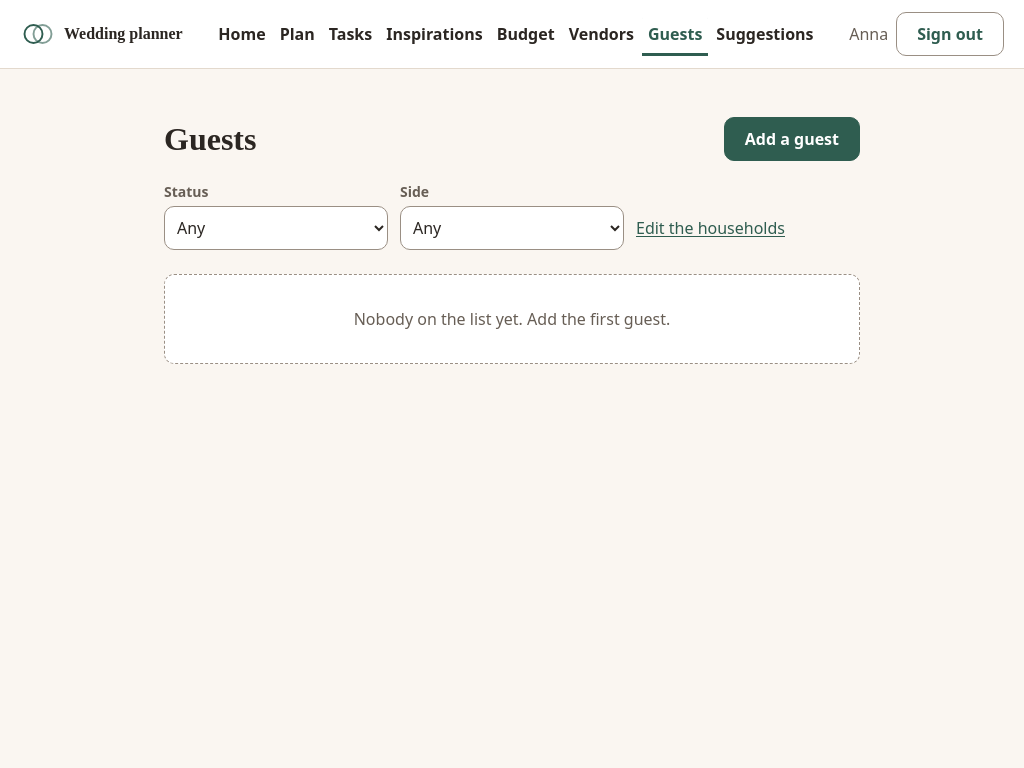
it: the households › adds a household, and says so when the name is taken
Click the link "Edit the households".
click(710, 228)  # box [636,216,785,240]
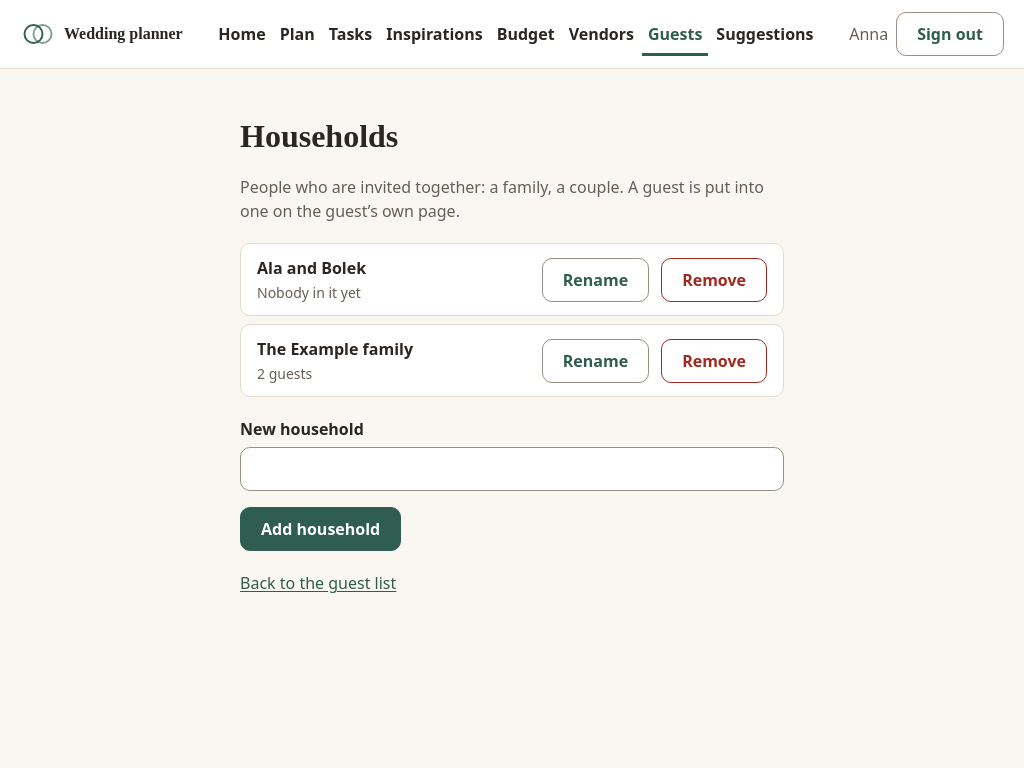
Type "The Example family" into the field labelled "New household".
click(512, 469); type("The Example family")  # box [240,447,784,491]
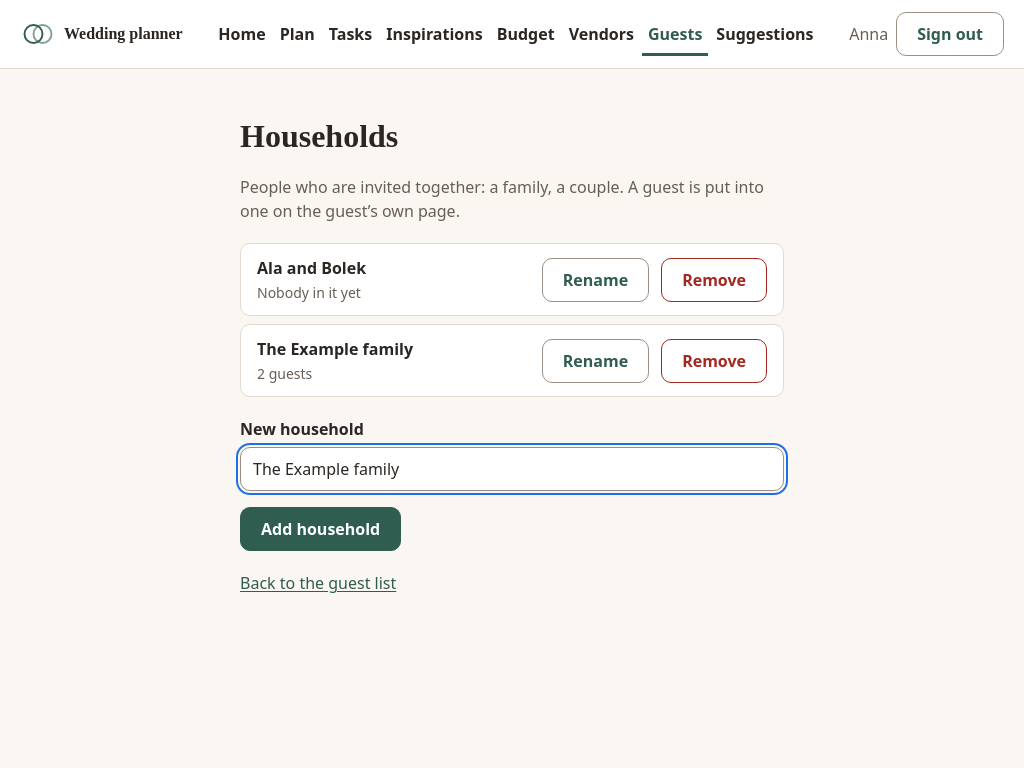
Click the button "Add household".
click(321, 529)  # box [240,507,401,551]
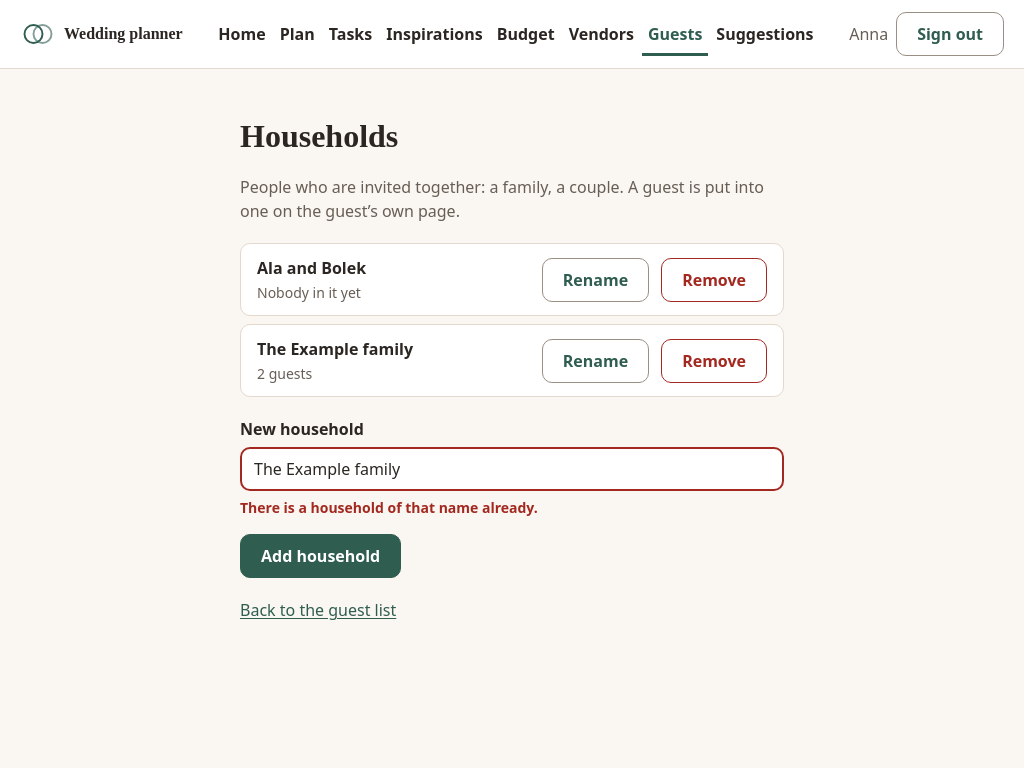
Replace the text in the field labelled "New household" with " The neighbours " at (512, 469), box [240,447,784,491]
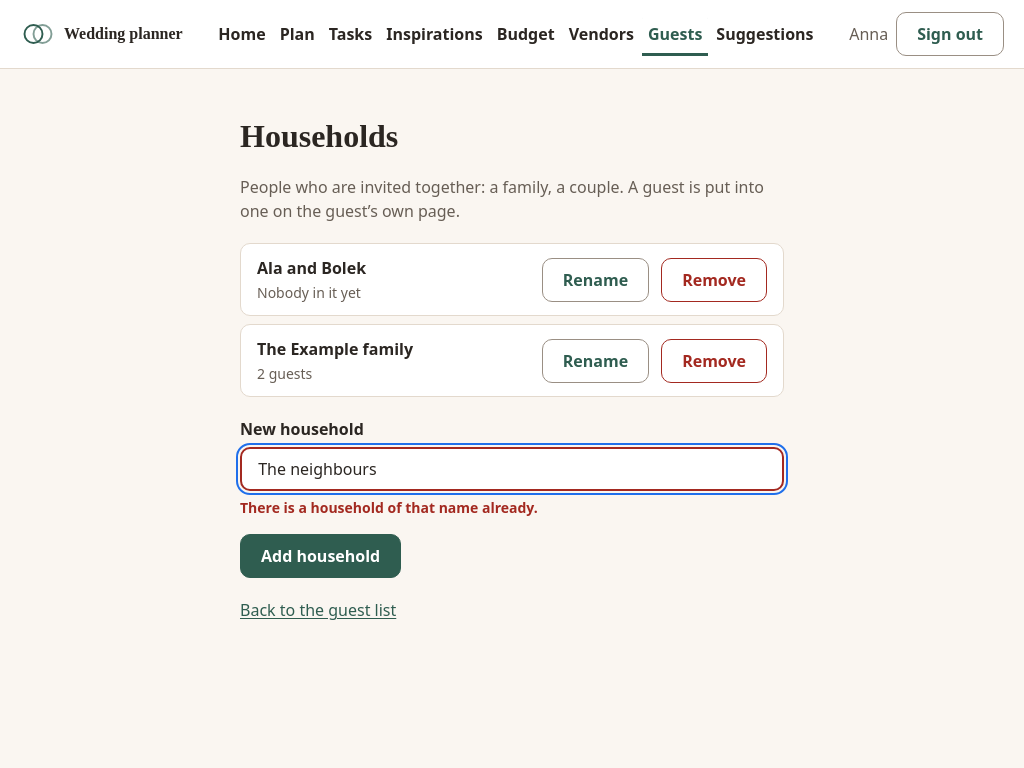
Click the button "Add household".
click(321, 556)  # box [240,534,401,578]
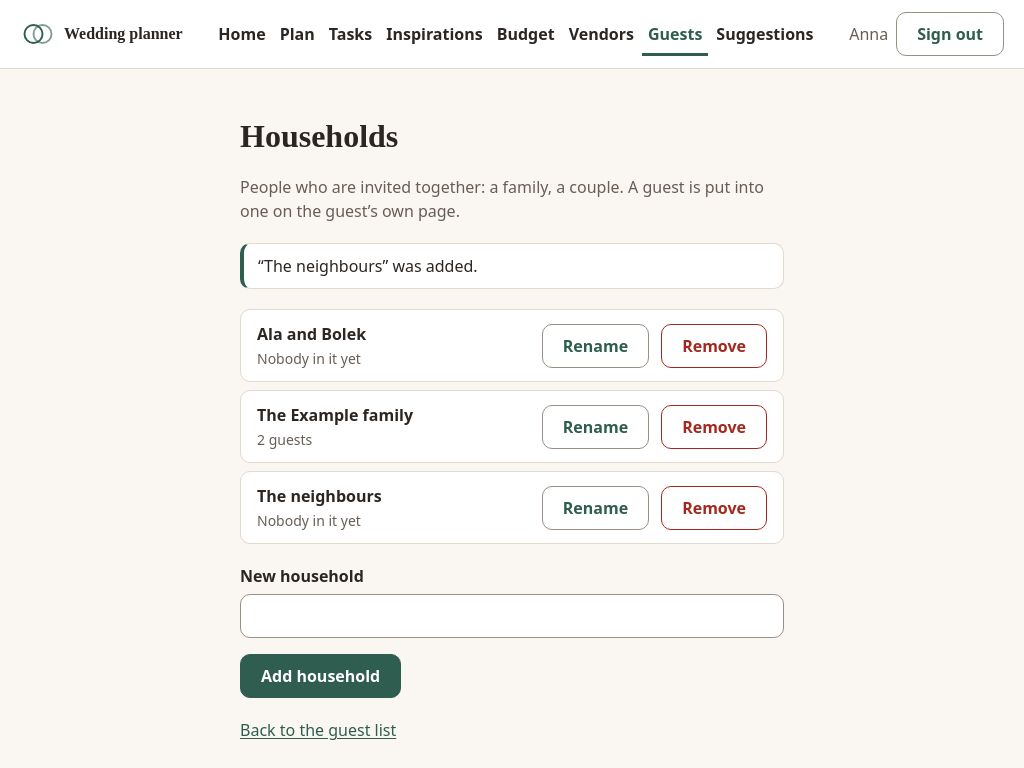
expect the text "The neighbours" is shown: met, box [257,484,382,508]
expect the message reads "“The neighbours” was added.": met, box [258,255,478,277]
